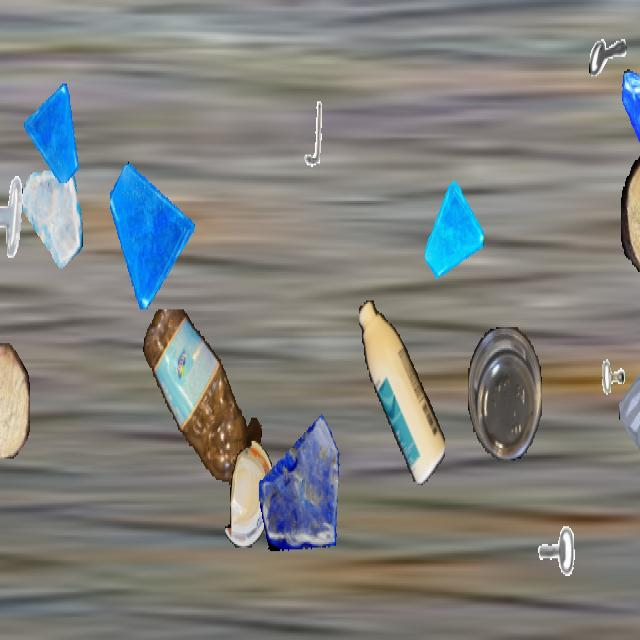glass: (259, 404, 345, 556), (110, 158, 194, 308), (22, 165, 82, 272), (425, 182, 483, 284), (24, 82, 80, 181), (618, 64, 640, 188), (619, 336, 640, 464)
metal: (527, 522, 577, 612), (586, 355, 634, 441), (292, 98, 332, 169), (589, 21, 627, 89), (0, 172, 26, 265)
plastic: (140, 310, 264, 483), (359, 300, 445, 486), (468, 327, 542, 459), (225, 441, 275, 547)
wood: (0, 343, 30, 457), (621, 151, 640, 276)
